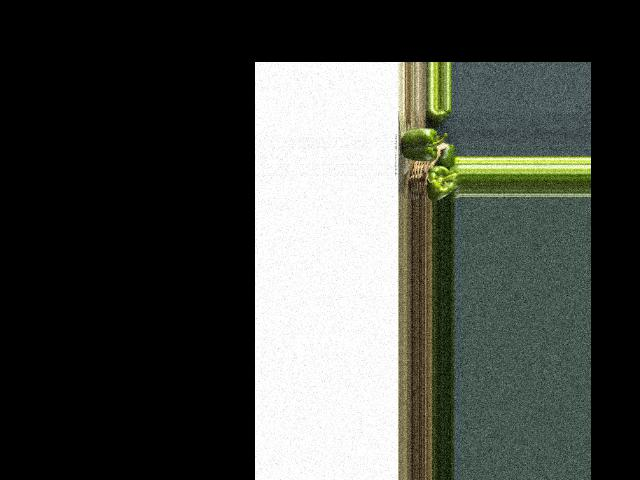bell_pepper: (430, 108, 450, 121)
